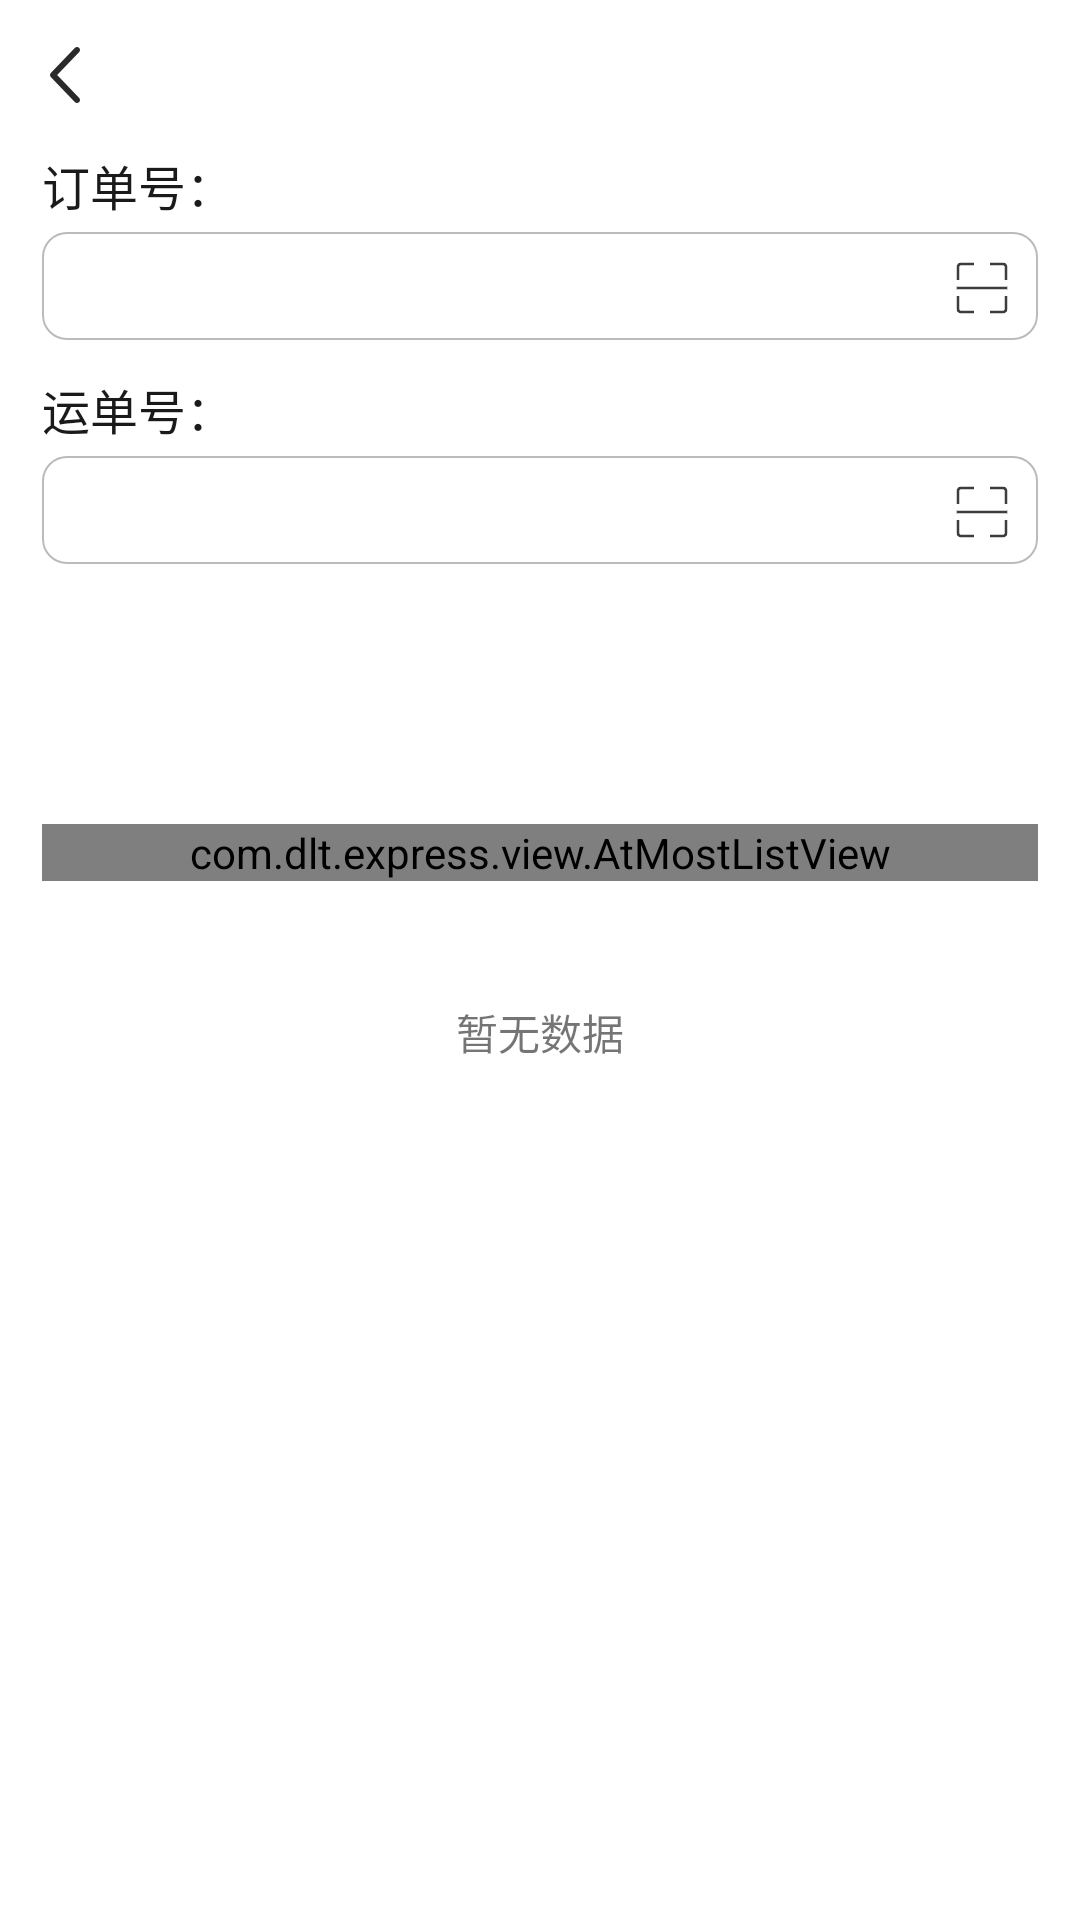

Locate icon controls on the screen. Image size 1080w x 1920h, boxes as {"left": x1, "top": y1, "right": x2, "bottom": y2}.
back: {"left": 50, "top": 47, "right": 80, "bottom": 103}
scan: {"left": 956, "top": 262, "right": 1008, "bottom": 314}, {"left": 956, "top": 486, "right": 1008, "bottom": 538}
